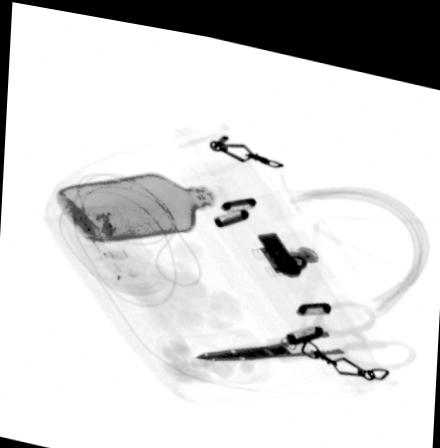Scissors: (194, 285, 417, 355)
